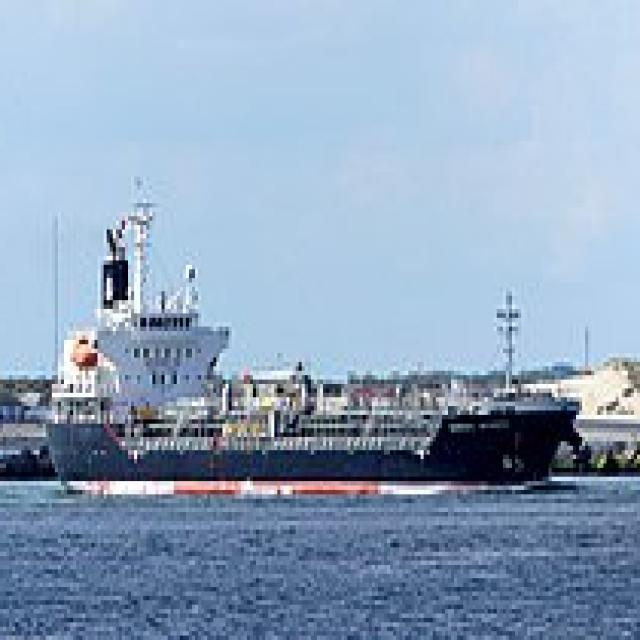Tanker: (46, 176, 588, 490)
